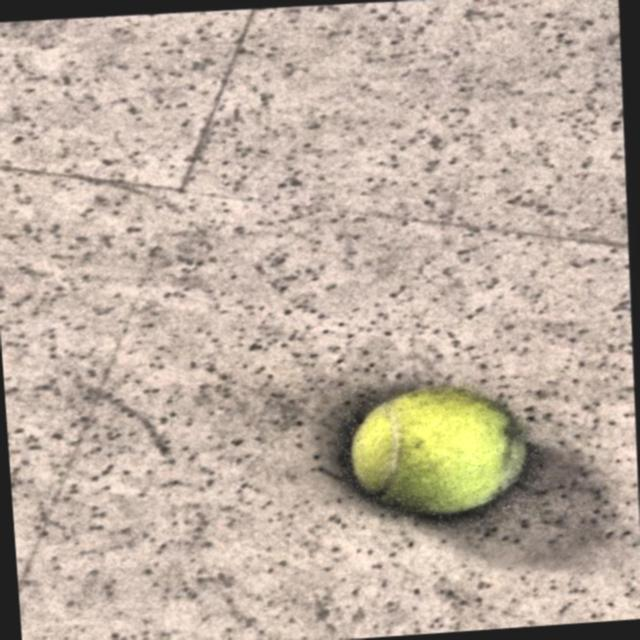tennis-ball: (336, 370, 558, 534)
